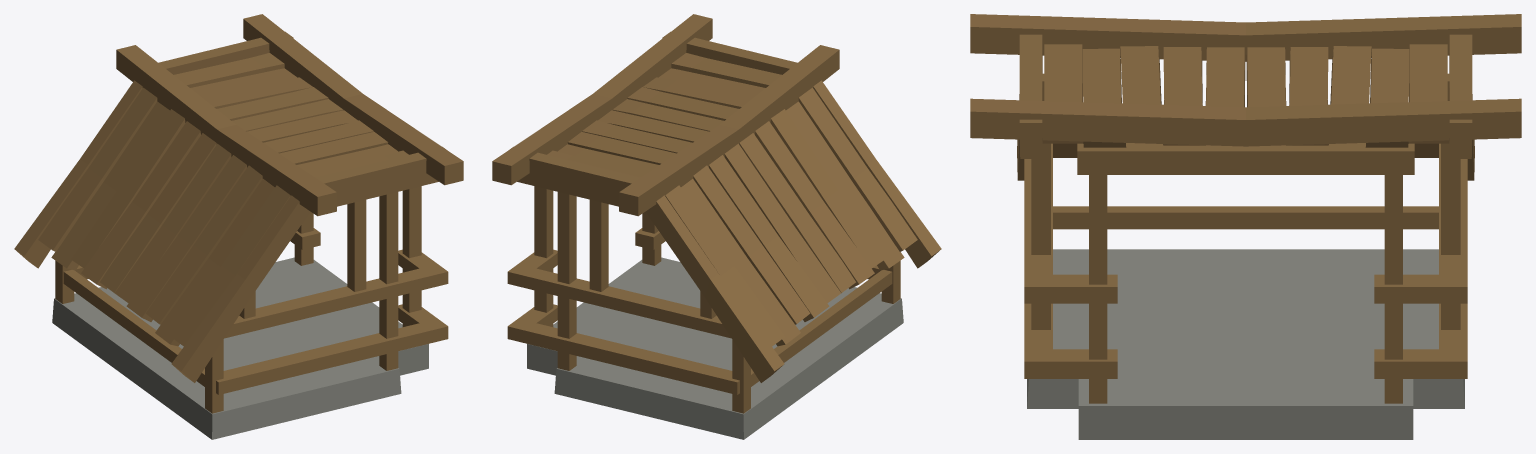
File: shack.glb
3 views of the same model, side by side, from view 1: azimuth 30°, elevation 25°; view 2: azimuth 150°, elevation 25°; view 3: azimuth 270°, elevation 25° (orthographic). The views are drawn at different scales.
Visible parts, largest first — view 1: Houses_FirstAge_2_Level1; view 2: Houses_FirstAge_2_Level1; view 3: Houses_FirstAge_2_Level1.
Part boxes in pixels (x1,y1,x2,y2): Houses_FirstAge_2_Level1: [14, 14, 463, 439]; Houses_FirstAge_2_Level1: [492, 14, 941, 439]; Houses_FirstAge_2_Level1: [970, 14, 1521, 439].
Bounding box in the file's own units: 0.9108 × 0.7685 × 1.17.
